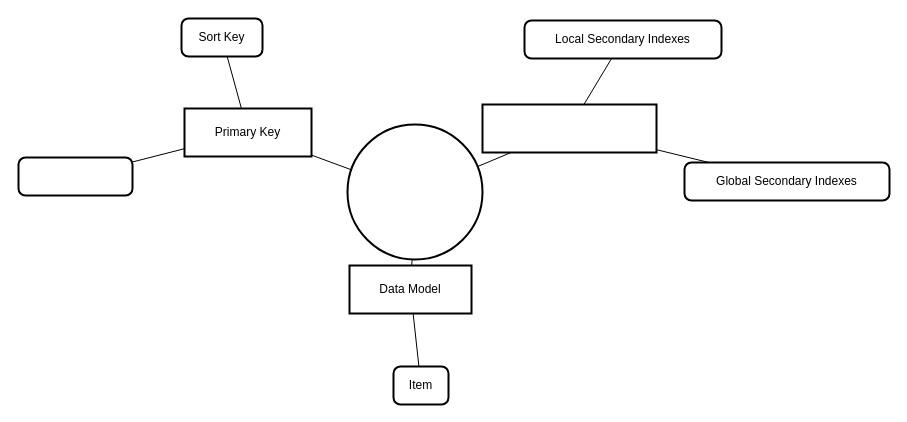
This 907x422 diagram has some shape labels left out. The shapes that lost their labels are listed below. From the top down, each one's centre as x and y in pixels, then its label:
At (x=569, y=128): "Secondary Indexes".
At (x=75, y=176): "Partition Key".
At (x=414, y=191): "AWS_DynamoDB".
